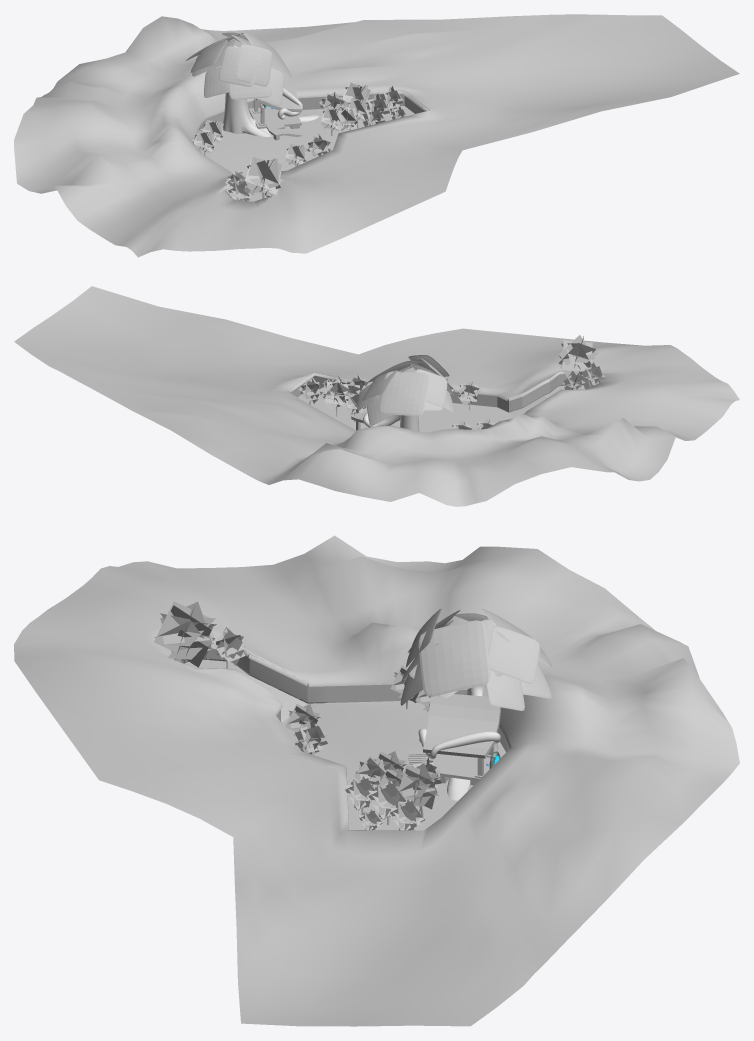
File: level_almost_final.fbx
3 views of the same model, one above another, from view 1: azimuth 30°, elevation 25°; view 2: azimuth 150°, elevation 25°; view 3: azimuth 270°, elevation 25° (orthographic). The views are drawn at different scales.
Parts seen in each view (by area): view 1: level.004, Bigtree, level.003, Temple, Circle.002, level.005, Circle.011; view 2: level.004, Bigtree, level.003, level.005, Circle.002, Circle.011, Circle.014, Circle.007, Circle.004; view 3: level.004, Bigtree, level.003, Temple, level.005, Circle.002, Circle.011, Circle.016, Circle.003.
Part boxes in pixels (bbox=[...]): level.004: bbox=[14, 14, 739, 257]; Bigtree: bbox=[186, 32, 318, 136]; level.003: bbox=[200, 106, 414, 201]; Temple: bbox=[248, 87, 302, 140]; Circle.002: bbox=[240, 157, 283, 198]; level.005: bbox=[192, 90, 429, 197]; Circle.011: bbox=[340, 82, 370, 108]; level.004: bbox=[14, 286, 739, 506]; Bigtree: bbox=[354, 355, 454, 431]; level.003: bbox=[298, 384, 586, 432]; level.005: bbox=[287, 372, 583, 412]; Circle.002: bbox=[558, 335, 598, 377]; Circle.011: bbox=[322, 379, 351, 416]; Circle.014: bbox=[298, 377, 322, 404]; Circle.007: bbox=[458, 380, 480, 409]; Circle.004: bbox=[581, 362, 605, 389]; level.004: bbox=[14, 535, 739, 1026]; Bigtree: bbox=[400, 608, 552, 800]; level.003: bbox=[185, 658, 505, 830]; Temple: bbox=[408, 694, 504, 785]; level.005: bbox=[176, 643, 509, 830]; Circle.002: bbox=[154, 601, 216, 667]; Circle.011: bbox=[398, 763, 439, 816]; Circle.016: bbox=[366, 781, 405, 825]; Circle.003: bbox=[211, 627, 245, 668].
Size of the model in its own units: 80519 by 11645 by 53697.
